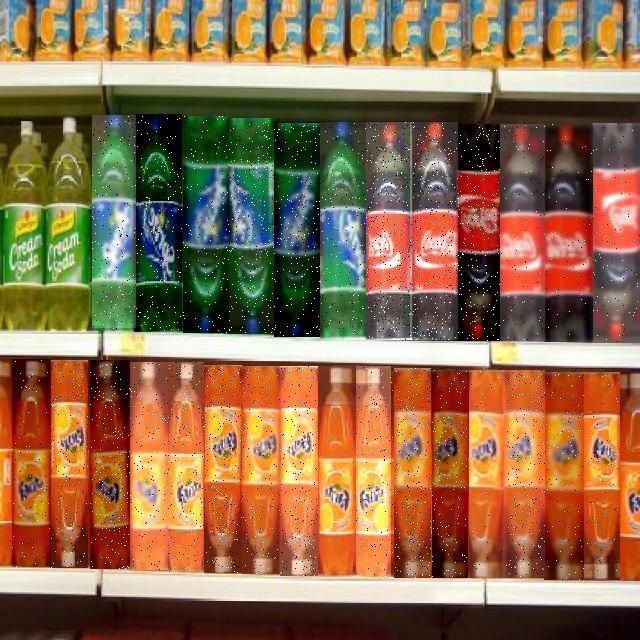Drinks: (544, 124, 593, 342), (592, 123, 640, 343), (135, 114, 183, 332), (411, 122, 459, 340), (320, 122, 366, 340), (366, 122, 412, 340), (183, 116, 229, 333), (228, 118, 274, 334), (274, 123, 320, 337), (500, 124, 545, 341), (92, 116, 136, 330), (457, 124, 500, 341), (90, 360, 130, 569), (544, 372, 584, 580), (242, 366, 281, 574), (129, 362, 168, 570), (12, 359, 51, 567), (506, 371, 545, 579), (356, 366, 394, 577), (318, 366, 356, 577), (280, 366, 318, 576), (204, 365, 242, 573), (50, 360, 88, 568), (470, 370, 508, 578), (394, 368, 431, 578), (583, 372, 620, 580), (168, 362, 204, 572), (432, 370, 468, 578)
